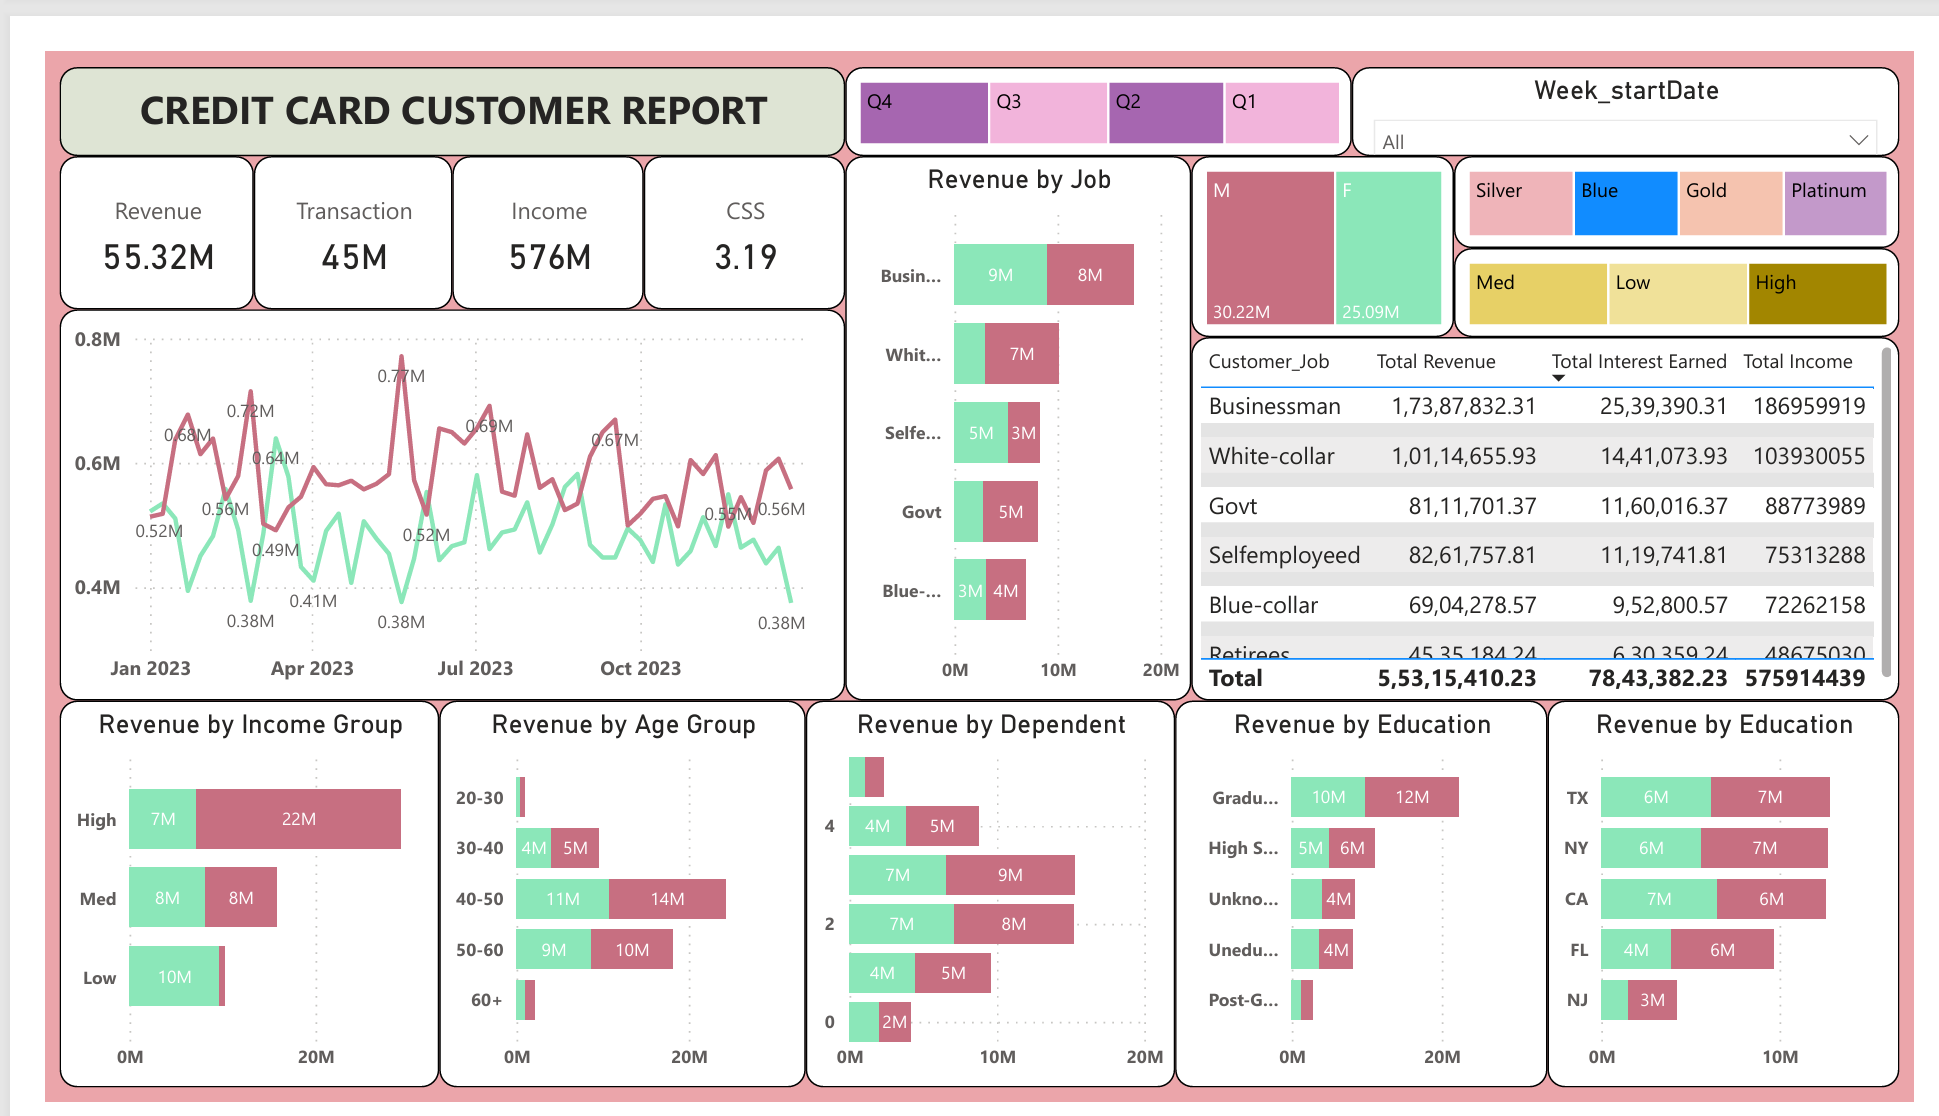

What the dashboard file says about the page in this screenshot:
{"tool":"powerbi","page":{"name":"Customer","canvas":[1280,720],"ordinal":1},"visuals":[{"type":"textbox","box":[9.7,11.1,537.9,61.2],"z":0},{"type":"barChart","title":"Revenue by Income Group","fields":{"Y":["Sum(Credit_card.Revenue)"],"Category":["Customer.Income_Group"],"Series":["Customer.Gender"]},"box":[9.7,444.8,259.9,265.5],"z":1000},{"type":"tableEx","fields":{"Values":["Customer.Customer_Job","Sum(Credit_card.Revenue)","Sum(Credit_card.Interest_Earned)","Sum(Customer.Income)"]},"box":[785.3,196,485.1,248.8],"z":2000},{"type":"cardVisual","title":"Revenue","fields":{"Data":["Sum(Credit_card.Revenue)"]},"box":[9.7,72.3,133.4,104.2],"z":3000},{"type":"cardVisual","title":"Total Transaction","fields":{"Data":["Sum(Credit_card.Total_Trans_Amt)"]},"box":[143.2,72.3,136.2,104.2],"z":4000},{"type":"cardVisual","title":"Interest Earned","fields":{"Data":["Sum(Customer.Income)"]},"box":[279.4,72.3,130.7,104.2],"z":5000},{"type":"cardVisual","title":"Amount","fields":{"Data":["Avg(Customer.Cust_Satisfaction_Score)"]},"box":[410,72.3,137.6,104.2],"z":6000},{"type":"slicer","title":"Week_startDate","fields":{"Values":["Credit_card.Week_Start_Date"]},"box":[895.1,11.1,375.3,61.2],"z":7000},{"type":"treemap","fields":{"Group":["Credit_card.Qtr"],"Values":["Avg(Credit_card.Client_Num)"]},"box":[547.6,11.1,347.5,61.2],"z":8000},{"type":"treemap","fields":{"Group":["Credit_card.Card_Category"],"Values":["Avg(Credit_card.Client_Num)"]},"box":[964.6,72.3,305.8,62.5],"z":9000},{"type":"treemap","fields":{"Values":["Avg(Credit_card.Client_Num)"],"Group":["Customer.Income_Group"]},"box":[964.6,134.8,305.8,61.2],"z":10000},{"type":"lineChart","title":"Revenue by Week","fields":{"Y":["Sum(Credit_card.Revenue)"],"Series":["Customer.Gender"],"Category":["Credit_card.Week_Start_Date.Variation.Date Hierarchy.Year","Credit_card.Week_Start_Date.Variation.Date Hierarchy.Month","Credit_card.Week_Start_Date.Variation.Date Hierarchy.Day"]},"box":[9.7,176.5,537.9,268.3],"z":11000},{"type":"treemap","fields":{"Group":["Customer.Gender"],"Values":["Sum(Credit_card.Revenue)"]},"box":[785.3,72.3,179.3,123.7],"z":12000},{"type":"barChart","title":"Revenue by Age Group","fields":{"Y":["Sum(Credit_card.Revenue)"],"Category":["Customer.Age_Group"],"Series":["Customer.Gender"]},"box":[269.7,444.8,251.6,265.5],"z":13000},{"type":"barChart","title":"Revenue by Job","fields":{"Y":["Sum(Credit_card.Revenue)"],"Category":["Customer.Customer_Job"],"Series":["Customer.Gender"]},"box":[547.6,72.3,237.7,372.5],"z":14000},{"type":"barChart","title":"Revenue by Education","fields":{"Y":["Sum(Credit_card.Revenue)"],"Category":["Customer.Education_Level"],"Series":["Customer.Gender"]},"box":[774.2,444.8,254.4,265.5],"z":15000},{"type":"barChart","title":"Revenue by Education","fields":{"Y":["Sum(Credit_card.Revenue)"],"Category":["Customer.State_Cd"],"Series":["Customer.Gender"]},"box":[1028.6,444.8,241.9,265.5],"z":16000},{"type":"barChart","title":"Revenue by Dependent","fields":{"Y":["Sum(Credit_card.Revenue)"],"Category":["Customer.Dependent_Count"],"Series":["Customer.Gender"]},"box":[521.2,444.8,253,265.5],"z":17000}]}

Visuals, with their boxes in screenshot pixels (x1, y1, x2, y2), scaled from the page's 1280x720 canvas onto the 1939x1116 screenshot:
textbox: (15,17,830,112)
"Revenue by Income Group" barChart: (15,689,408,1101)
tableEx - Customer.Customer_Job x Sum(Credit_card.Revenue): (1190,304,1924,689)
"Revenue" cardVisual: (15,112,217,274)
"Total Transaction" cardVisual: (217,112,423,274)
"Interest Earned" cardVisual: (423,112,621,274)
"Amount" cardVisual: (621,112,830,274)
"Week_startDate" slicer: (1356,17,1924,112)
treemap - Credit_card.Qtr x Avg(Credit_card.Client_Num): (830,17,1356,112)
treemap - Credit_card.Card_Category x Avg(Credit_card.Client_Num): (1461,112,1924,209)
treemap - Avg(Credit_card.Client_Num) x Customer.Income_Group: (1461,209,1924,304)
"Revenue by Week" lineChart: (15,274,830,689)
treemap - Customer.Gender x Sum(Credit_card.Revenue): (1190,112,1461,304)
"Revenue by Age Group" barChart: (409,689,790,1101)
"Revenue by Job" barChart: (830,112,1190,689)
"Revenue by Education" barChart: (1173,689,1558,1101)
"Revenue by Education" barChart: (1558,689,1925,1101)
"Revenue by Dependent" barChart: (790,689,1173,1101)
